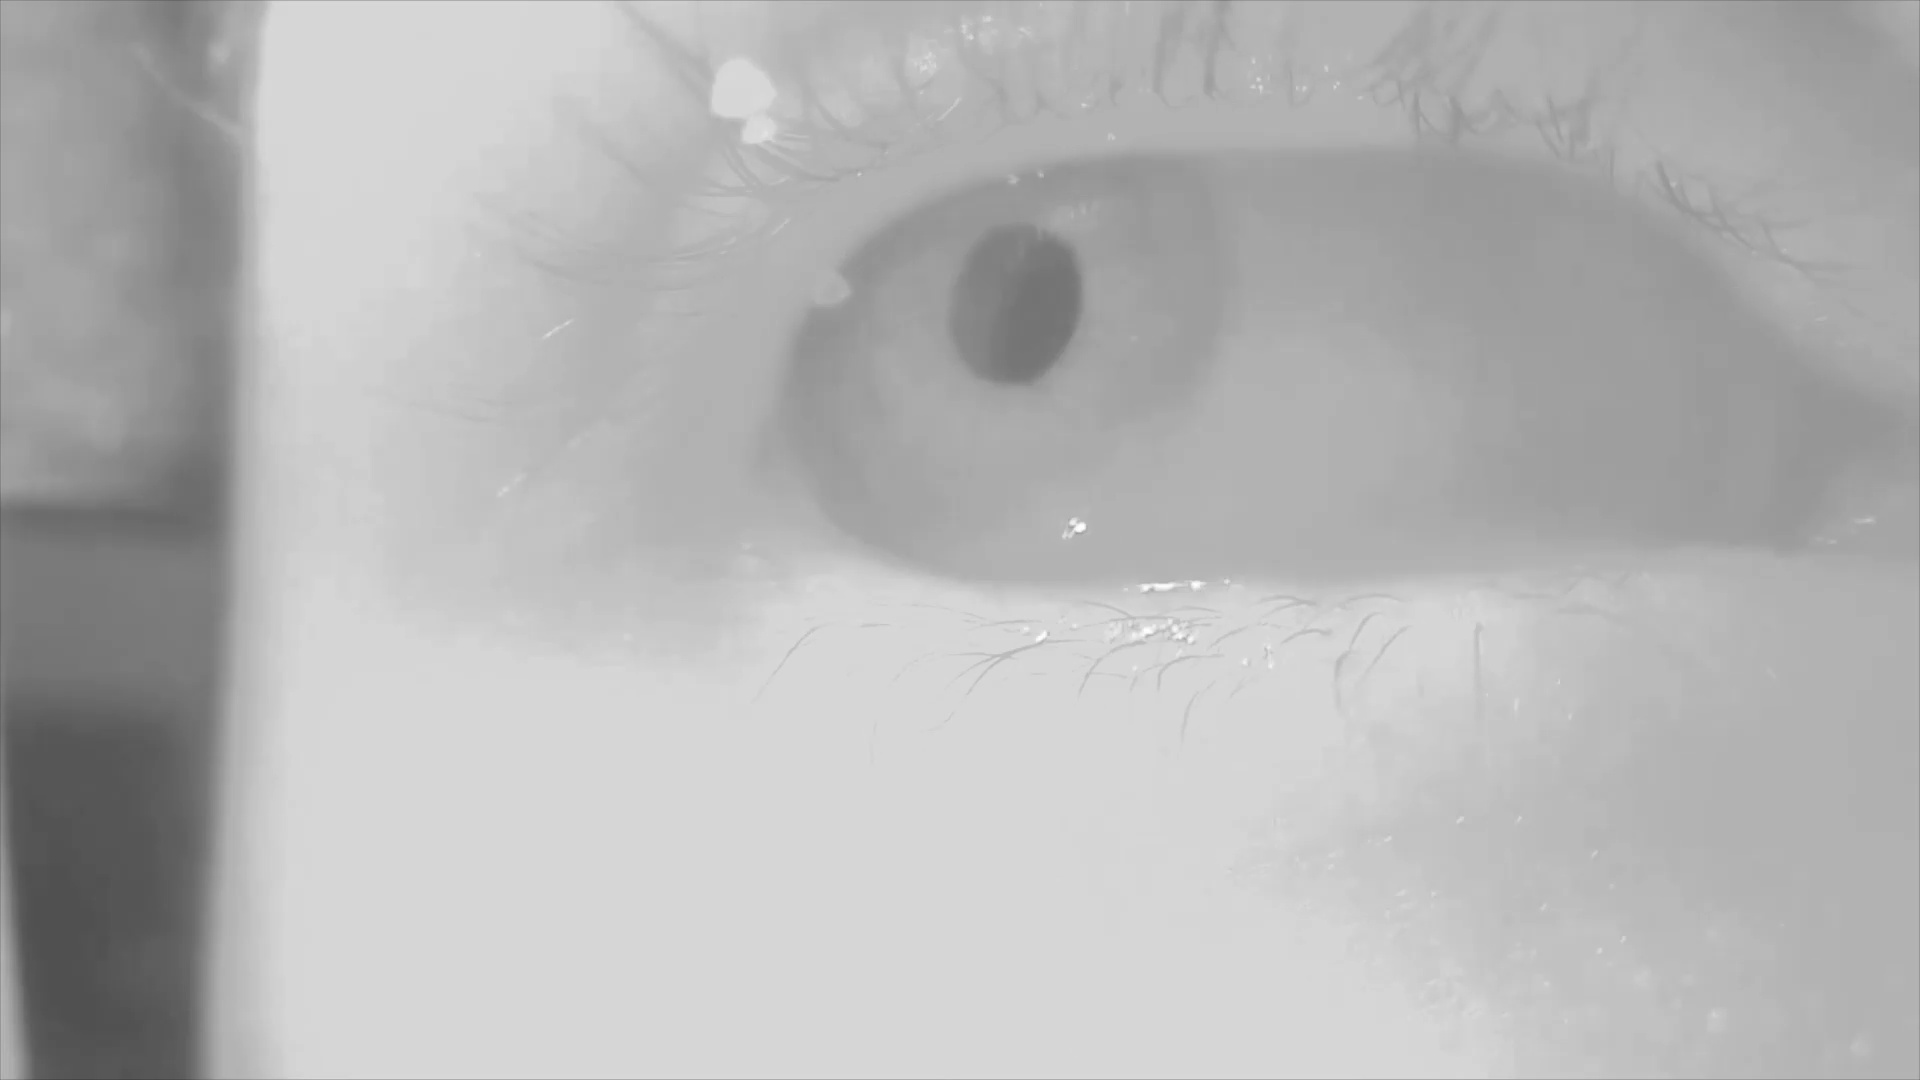pupil: (949, 223, 1086, 384)
